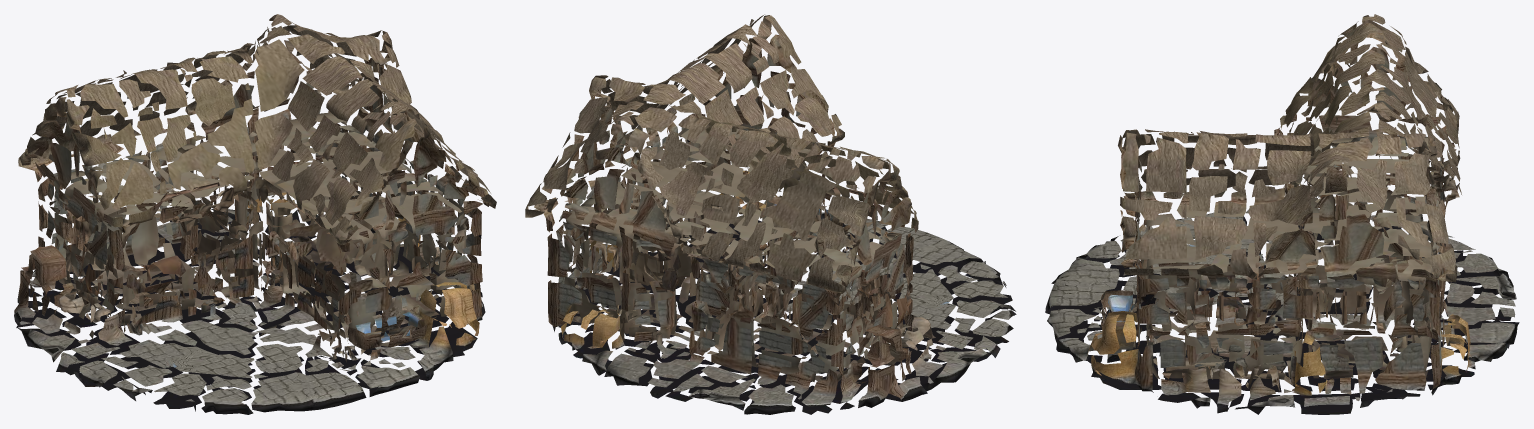
The model's file is stall.glb.
The picture shows the model from 3 angles, left to right: view 1: azimuth 30°, elevation 25°; view 2: azimuth 150°, elevation 25°; view 3: azimuth 270°, elevation 25°; orthographic projection. The views are drawn at different scales.
Size of the model in its own units: 1.87 by 1.02 by 1.87.
Materials: 1 (1 with a texture image).
